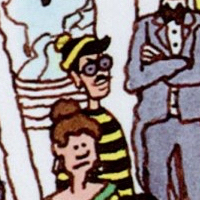odlaw: (75, 37, 113, 98)
